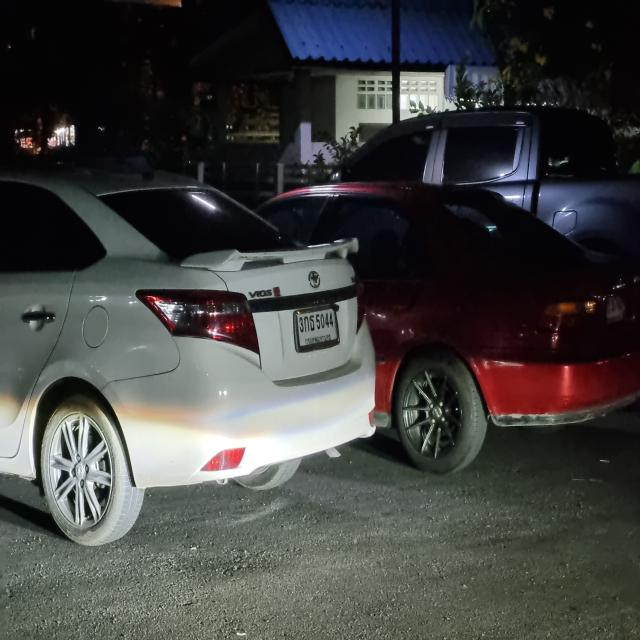license_plate: (292, 301, 342, 350)
